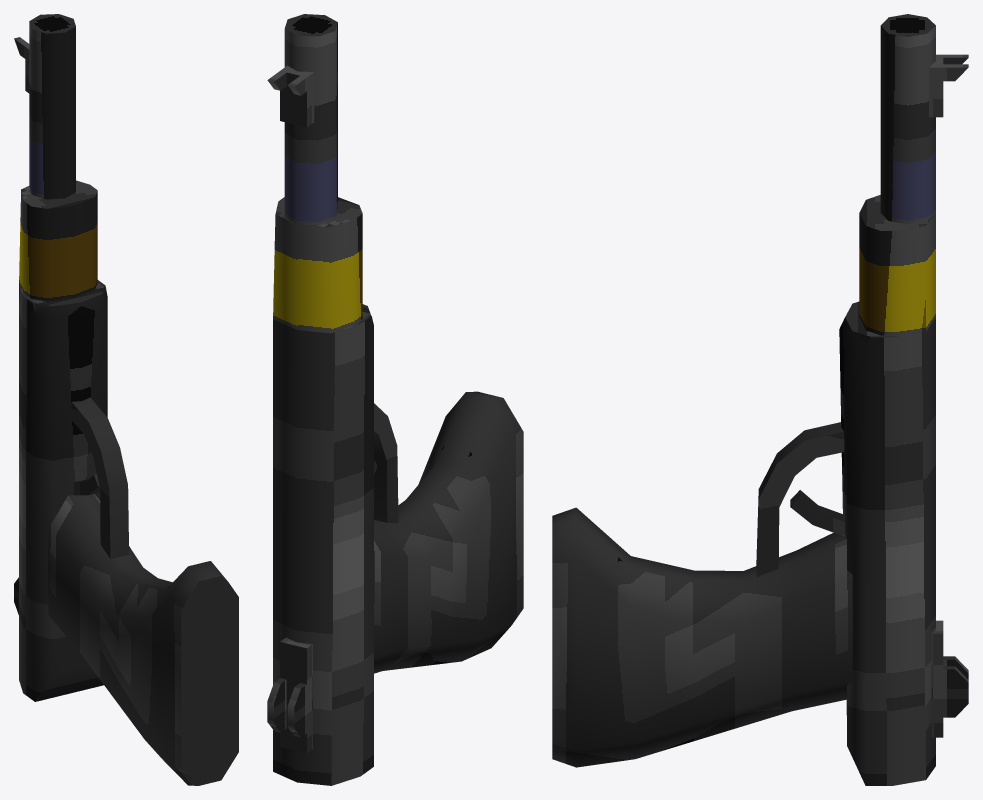
Rendered from w_dartgun.fbx.
3 renders of one model, left to right at view 1: azimuth 30°, elevation 25°; view 2: azimuth 150°, elevation 25°; view 3: azimuth 270°, elevation 25°, orthographic. The views are drawn at different scales.
Parts seen in each view (by area): view 1: Cylinder; view 2: Cylinder; view 3: Cylinder.
Boxes of the visible parts, x1,y1,x2,y2 form: Cylinder: (14, 14, 238, 785); Cylinder: (267, 14, 523, 785); Cylinder: (552, 14, 968, 785).
Size of the model in its own units: 5.19 by 44.73 by 22.79.
